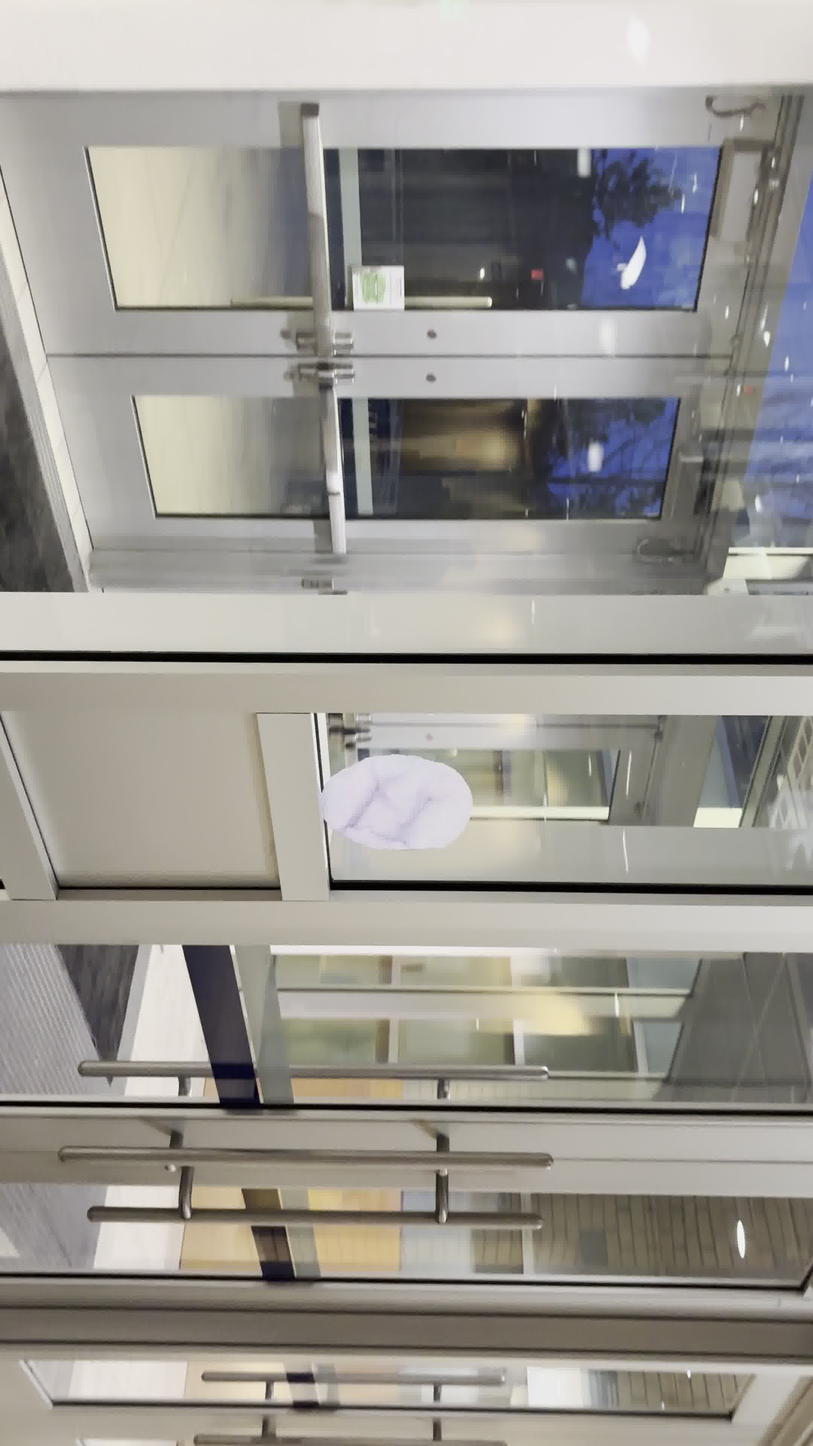Target: (319, 752, 474, 851)
